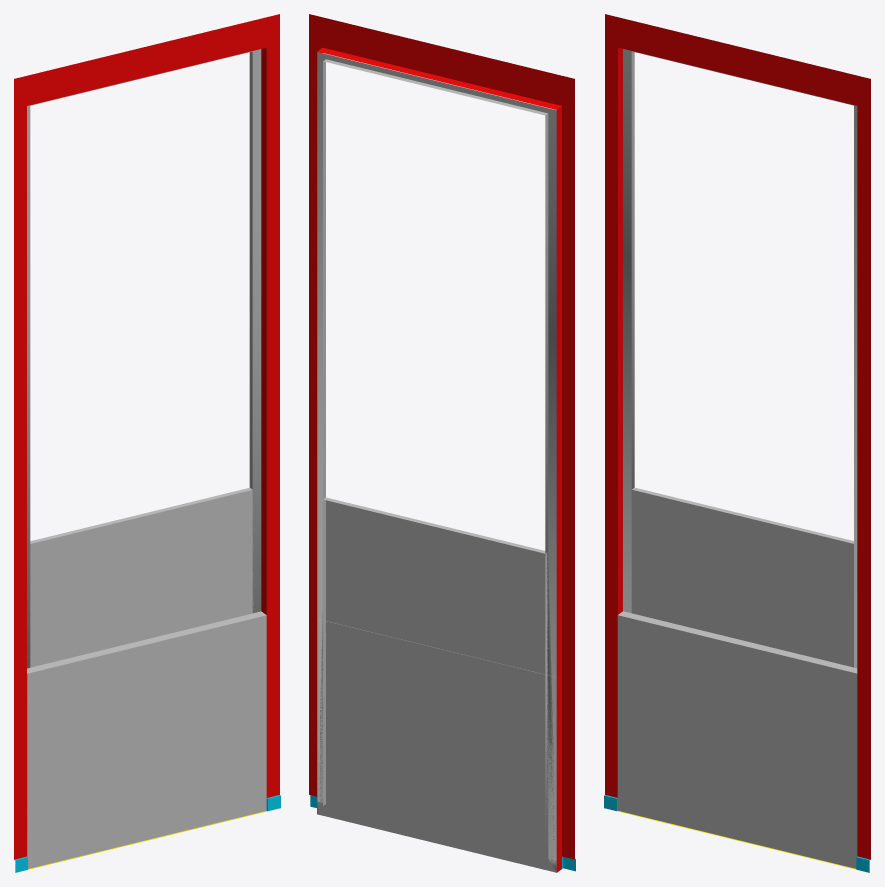
Rendered from SM_Big_Window.fbx.
3 views of the same model, side by side, from view 1: azimuth 30°, elevation 25°; view 2: azimuth 150°, elevation 25°; view 3: azimuth 330°, elevation 25° (orthographic).
Visible parts, largest first — view 1: SM_Window_C; view 2: SM_Window_C; view 3: SM_Window_C.
Boxes of the visible parts, box(x1,y1,x2,y2) form: SM_Window_C: box(14, 14, 280, 872); SM_Window_C: box(309, 14, 575, 872); SM_Window_C: box(604, 14, 870, 872).
Bounding box in the file's own units: 156 × 443 × 9.24.
